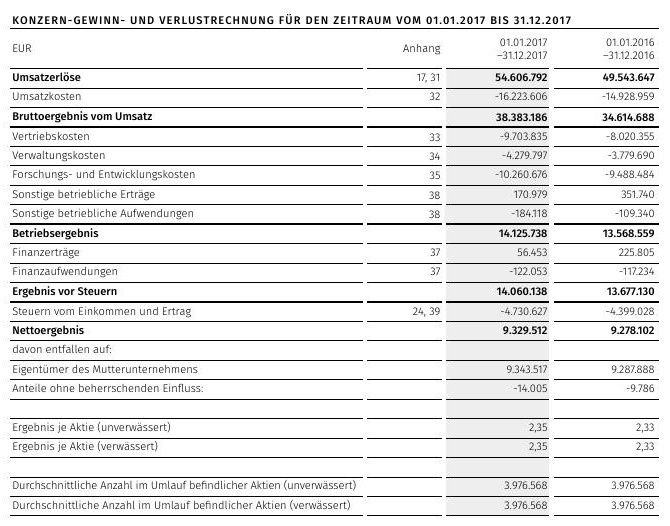table: (0, 0, 670, 526)
